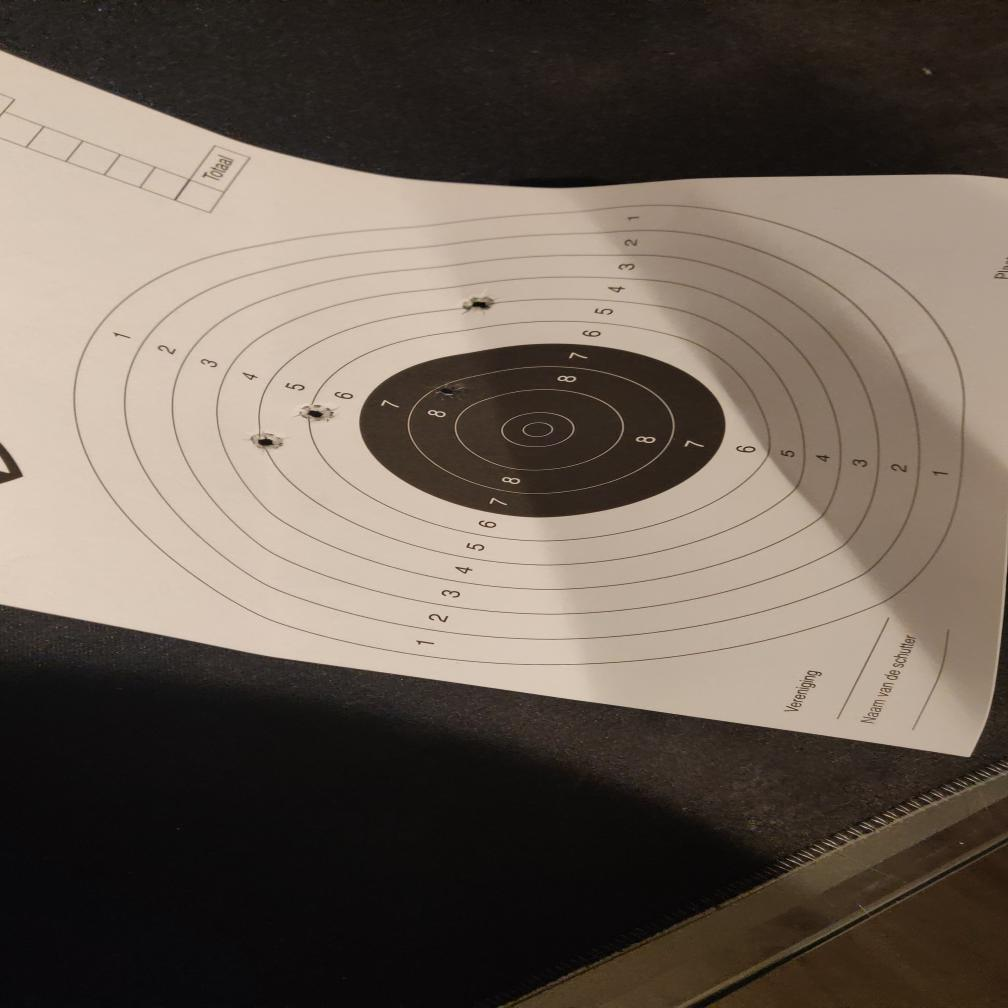5: (244, 431, 289, 451)
6: (294, 403, 339, 425)
8: (429, 381, 470, 402)
Target: (67, 202, 975, 668)
black_contour: (358, 343, 724, 518)
